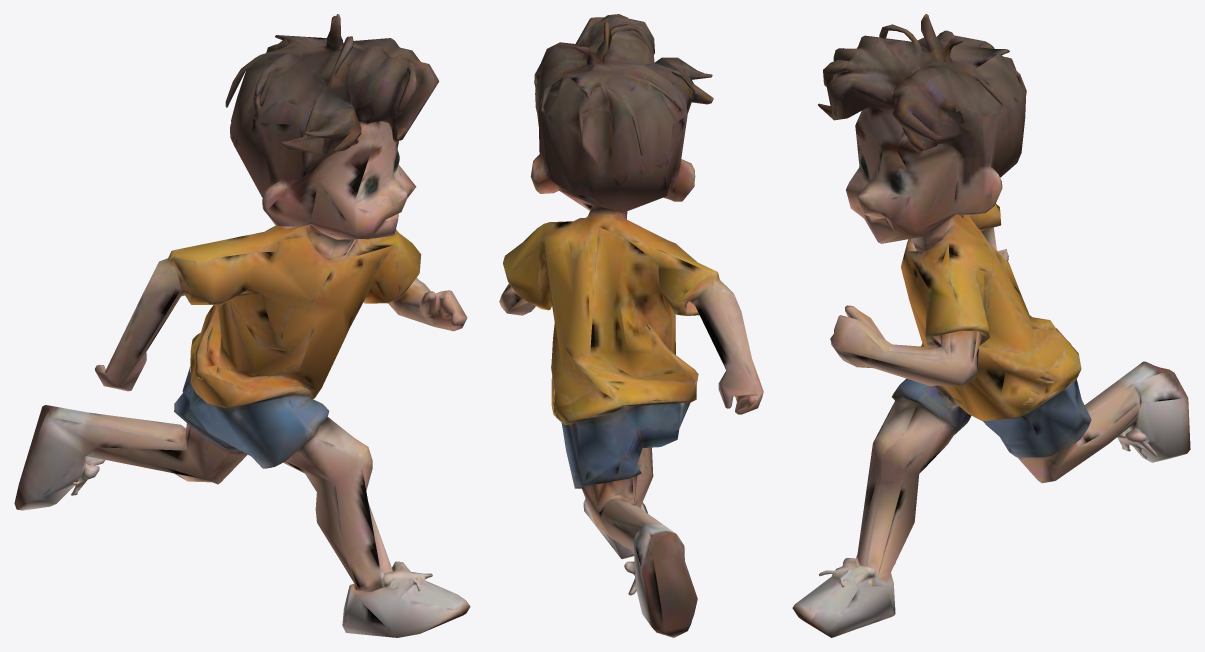
The model's file is Athletic_boy.glb.
3 views of the same model, side by side, from view 1: azimuth 30°, elevation 25°; view 2: azimuth 150°, elevation 25°; view 3: azimuth 270°, elevation 25° (orthographic). The views are drawn at different scales.
Visible parts, largest first — view 1: 3d66-Editable_Poly-23234333-003; view 2: 3d66-Editable_Poly-23234333-003; view 3: 3d66-Editable_Poly-23234333-003.
Part boxes in pixels (left/top/right/bottom): 3d66-Editable_Poly-23234333-003: left=14, top=14, right=470, bottom=637; 3d66-Editable_Poly-23234333-003: left=499, top=14, right=763, bottom=637; 3d66-Editable_Poly-23234333-003: left=792, top=14, right=1190, bottom=637.
Size of the model in its own units: 0.5315 by 0.9867 by 0.5904.
Materials: 1 (1 with a texture image).
